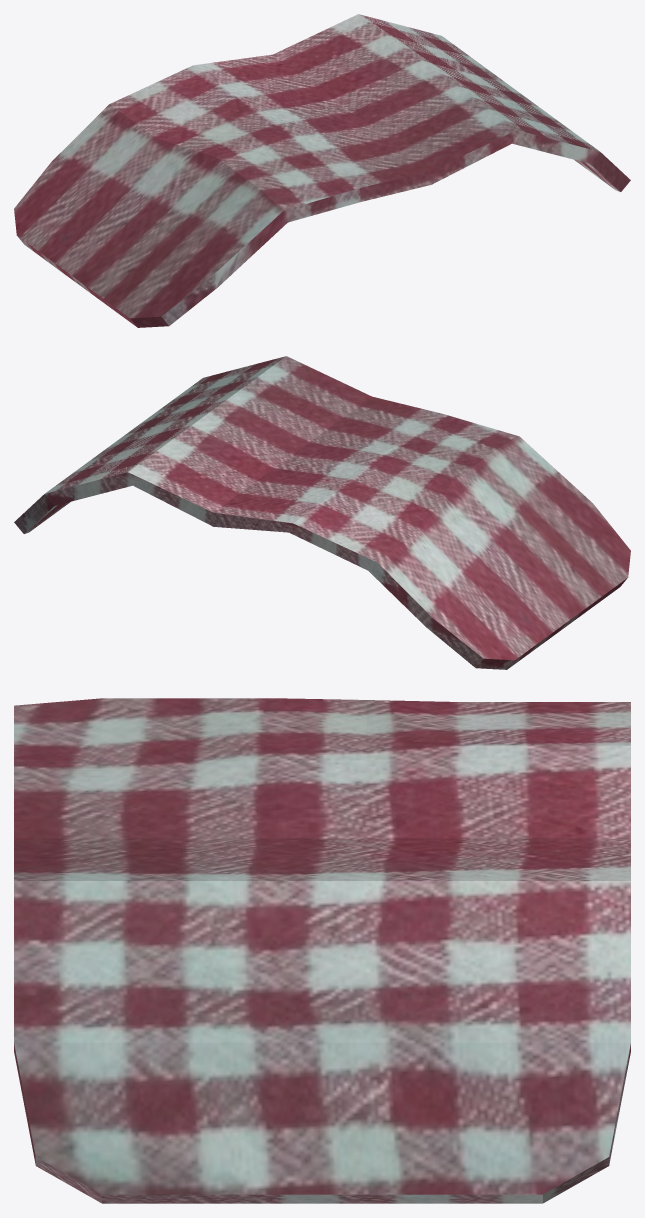
Rendered from Bez.fbx.
3 views of the same model, one above another, from view 1: azimuth 30°, elevation 25°; view 2: azimuth 150°, elevation 25°; view 3: azimuth 270°, elevation 25° (orthographic). The views are drawn at different scales.
Parts seen in each view (by area): view 1: Cube; view 2: Cube; view 3: Cube.
Boxes of the visible parts, x1=… form: Cube: x1=14, y1=14, x2=630, y2=327; Cube: x1=14, y1=356, x2=630, y2=669; Cube: x1=14, y1=698, x2=630, y2=1203.
Size of the model in its own units: 361 by 88.63 by 200.
